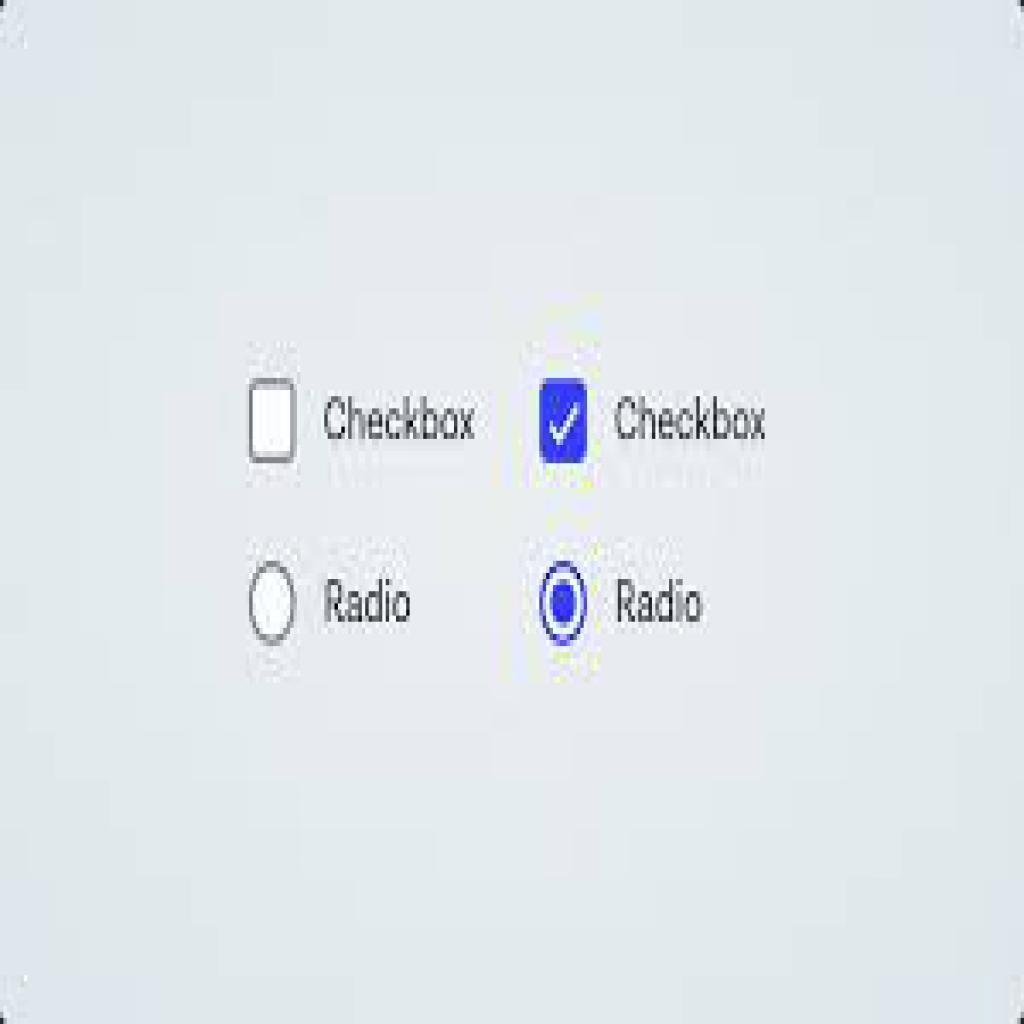checkbox: (541, 378, 590, 465), (252, 384, 297, 466)
radio: (242, 560, 302, 653), (536, 560, 590, 645)
